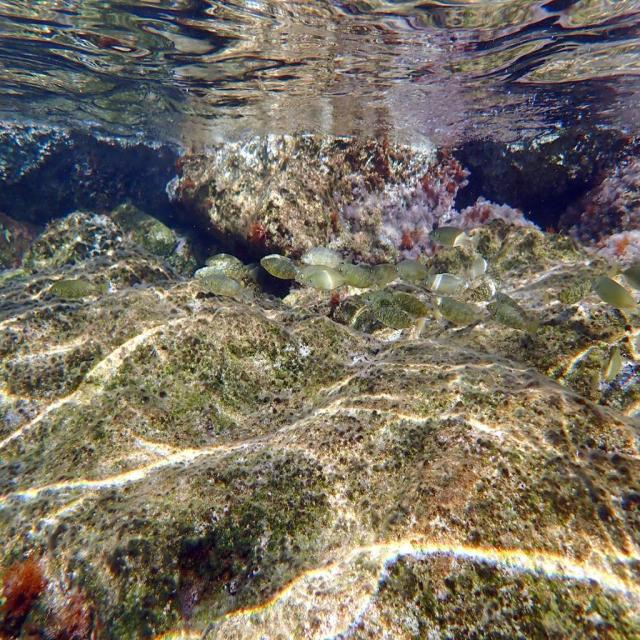Sokar Baligi: (586, 268, 640, 318), (436, 292, 488, 333), (258, 246, 304, 289)
